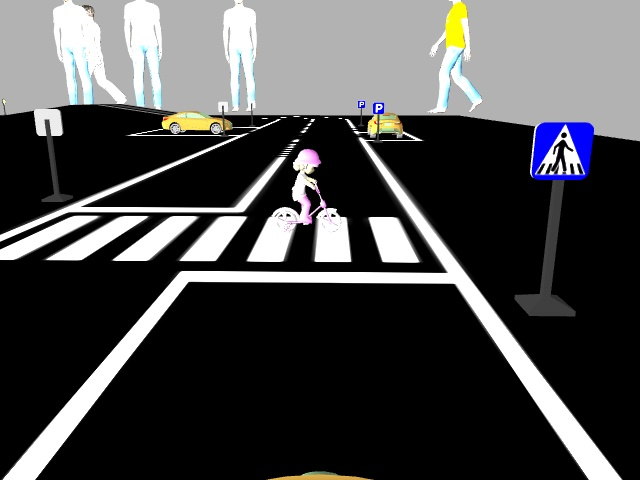Crosswalk: (529, 120, 596, 181)
Parking: (371, 101, 385, 115), (356, 99, 366, 109)
Pedestrian: (263, 148, 347, 232)
